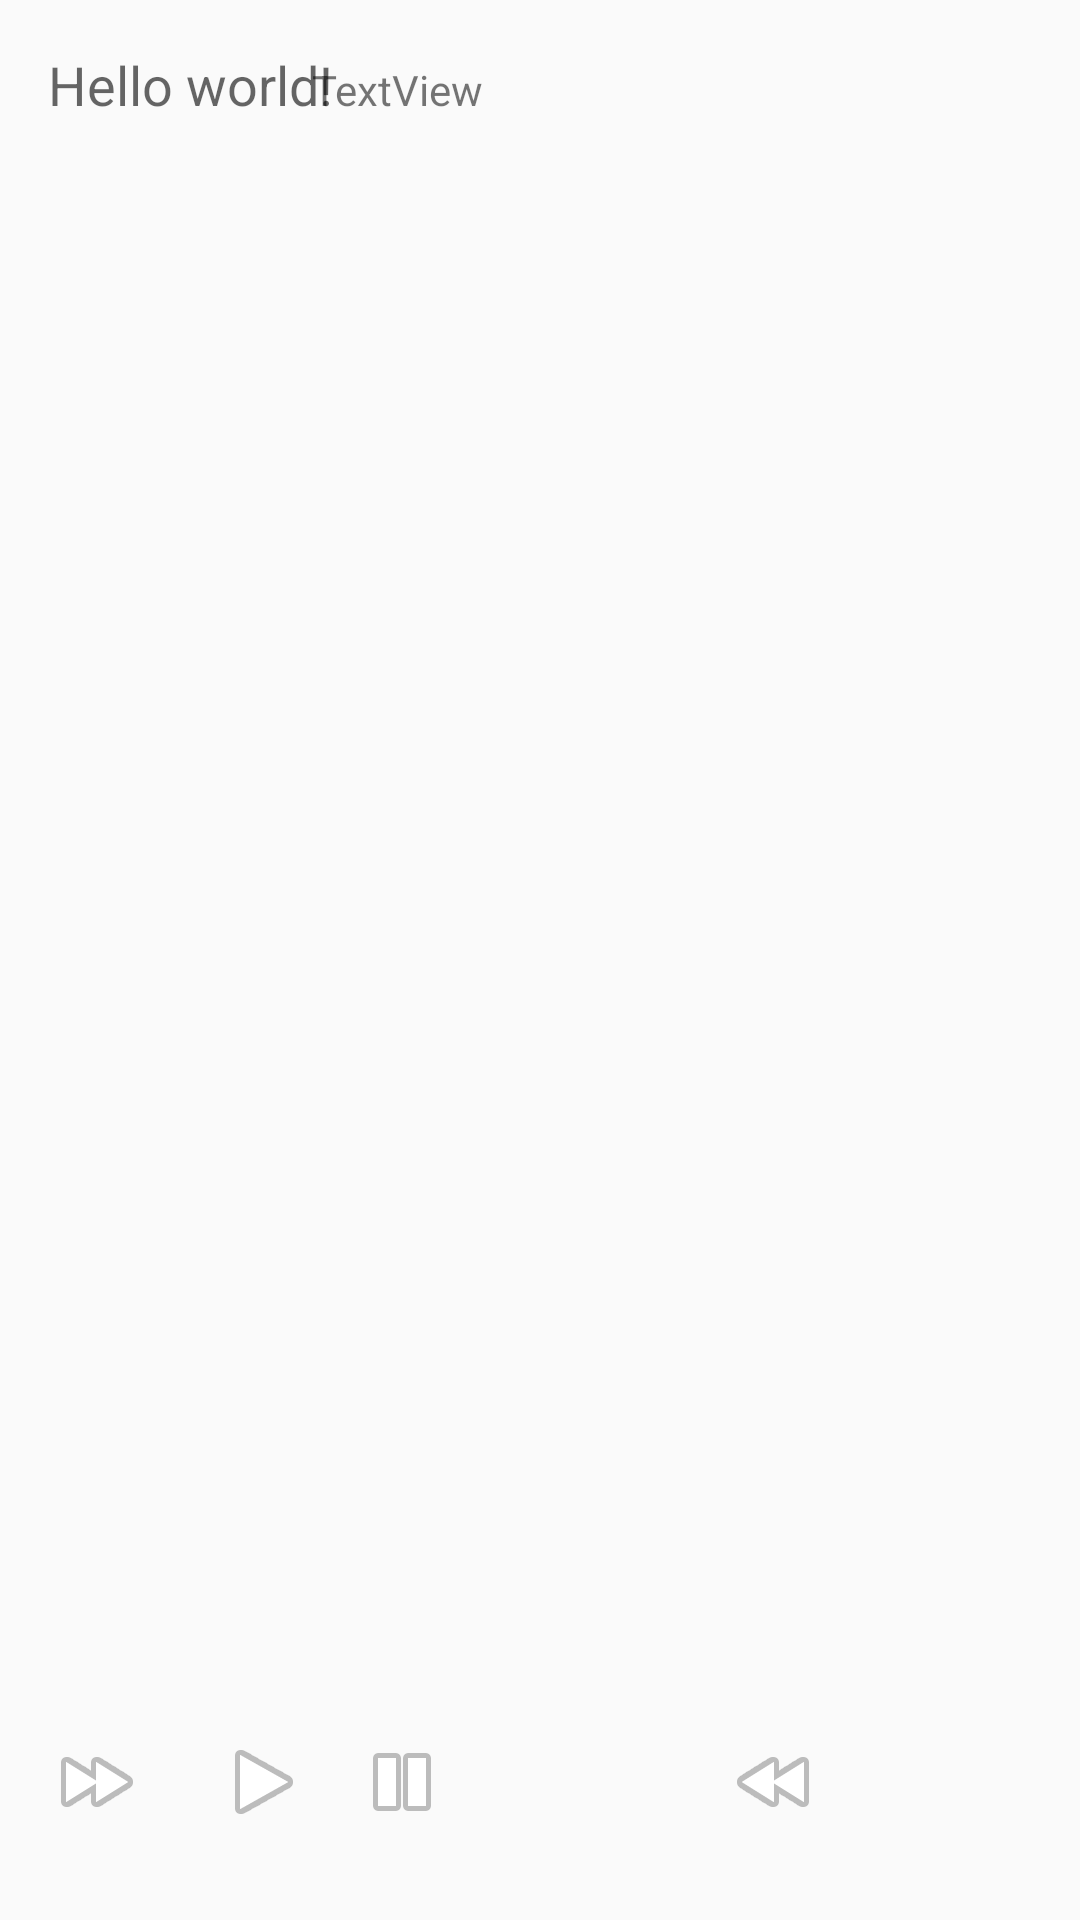

Icon click points for this 1080px x 1920px phone screenshot, format (x=x, y=y):
pause: (x=402, y=1782)
play: (x=264, y=1782)
rew: (x=773, y=1782)
